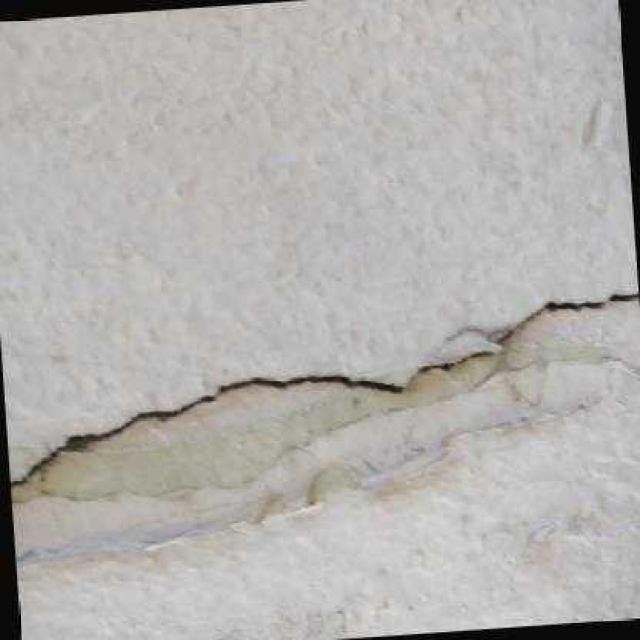D00: (10, 291, 639, 489)
